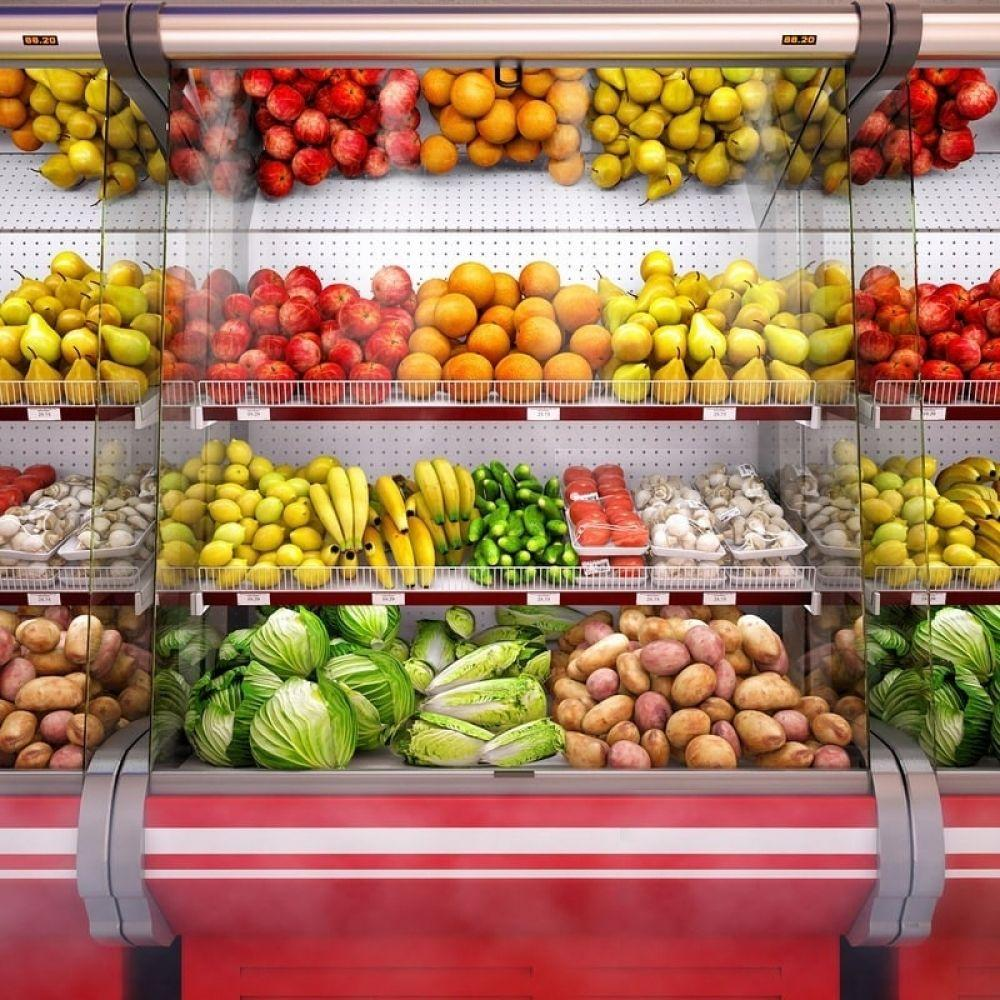banana: (315, 455, 474, 588), (941, 452, 1000, 570)
cabbage: (170, 606, 413, 769), (870, 603, 1000, 768)
cucumber: (477, 452, 579, 586)
lemon: (186, 434, 325, 585), (845, 457, 958, 580)
orange: (405, 258, 603, 388), (422, 57, 591, 183)
pear: (601, 254, 799, 404), (0, 253, 164, 404), (593, 66, 769, 203), (22, 69, 160, 213)
potato: (559, 612, 848, 770), (0, 607, 150, 772)
red apple: (209, 265, 416, 406), (243, 64, 426, 197), (857, 66, 999, 191), (876, 269, 1000, 402)
tomato: (568, 460, 649, 570)
